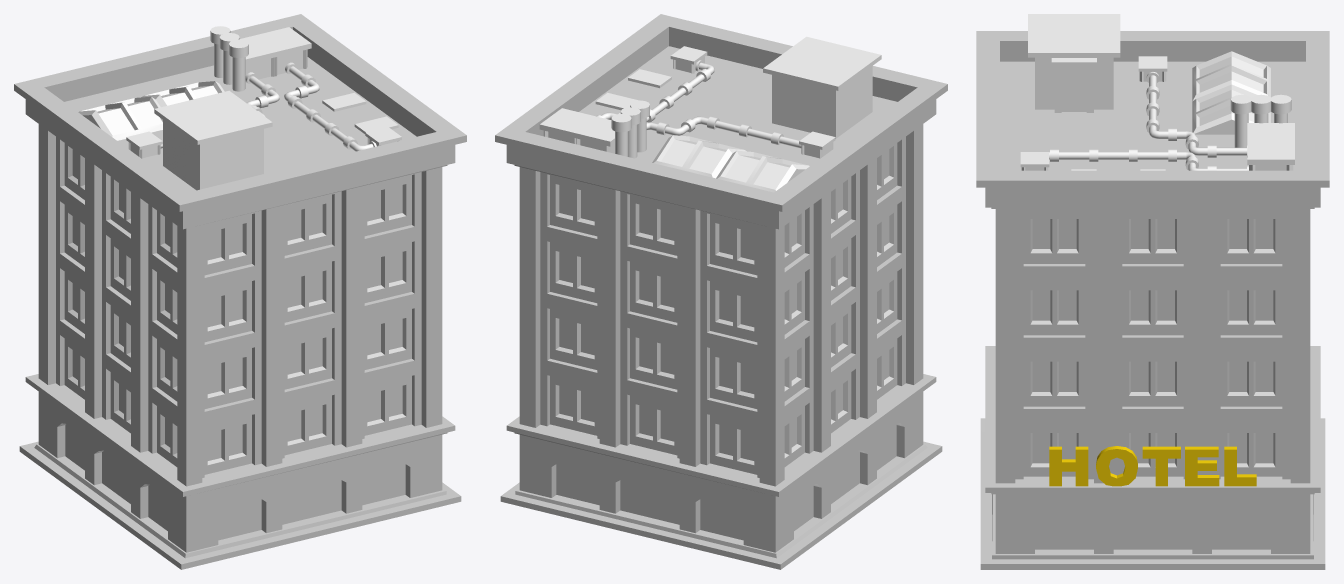
File: Building_2_1.fbx
The picture shows the model from 3 angles, left to right: view 1: azimuth 30°, elevation 25°; view 2: azimuth 150°, elevation 25°; view 3: azimuth 270°, elevation 25°; orthographic projection. The views are drawn at different scales.
Parts seen in each view (by area): view 1: Building_2_Roof__1_, Building_2_Wall_2__6_, Building_2_Wall_2__10_, Building_2_Wall_2__14_, Building_2_Wall_2__2_, Building_2_Wall_1__2_, Building_2_Wall_2__7_, Building_2_Wall_2__11_, Building_2_Base, Building_2_Wall_2__15_, Building_2_Wall_2__3_, RoofBuilding (+8 smaller); view 2: Building_2_Roof__1_, Building_2_Wall_2__5_, Building_2_Wall_2__9_, Building_2_Wall_2__13_, Building_2_Wall_2__1_, Building_2_Wall_1__4_, Building_2_Wall_2__7_, Building_2_Wall_2__11_, Building_2_Base, Building_2_Wall_2__15_, RoofBuilding, Building_2_Wall_2__3_ (+9 smaller); view 3: Building_2_Roof__1_, Building_2_Wall_2__8_, Building_2_Wall_2__4_, Building_2_Wall_2__12_, Building_2_Wall_1__1_, Building_2_Wall_2, Building_2_Base, Building_2_Separator__1_, RoofBuilding, Hotel_Add, RoofWindow, Door_1 (+8 smaller).
Boxes of the visible parts, x1,y1,x2,y2 form: Building_2_Roof__1_: [14, 14, 466, 229]; Building_2_Wall_2__6_: [186, 299, 442, 427]; Building_2_Wall_2__10_: [186, 232, 442, 360]; Building_2_Wall_2__14_: [186, 167, 442, 294]; Building_2_Wall_2__2_: [186, 366, 442, 486]; Building_2_Wall_1__2_: [186, 434, 442, 552]; Building_2_Wall_2__7_: [38, 253, 186, 427]; Building_2_Wall_2__11_: [38, 186, 186, 360]; Building_2_Base: [19, 441, 461, 569]; Building_2_Wall_2__15_: [38, 124, 186, 293]; Building_2_Wall_2__3_: [38, 320, 186, 485]; RoofBuilding: [154, 90, 272, 190]; Building_2_Roof__1_: [495, 14, 947, 229]; Building_2_Wall_2__5_: [519, 299, 775, 427]; Building_2_Wall_2__9_: [519, 232, 775, 360]; Building_2_Wall_2__13_: [519, 167, 775, 294]; Building_2_Wall_2__1_: [519, 366, 775, 486]; Building_2_Wall_1__4_: [519, 434, 775, 552]; Building_2_Wall_2__7_: [775, 253, 923, 427]; Building_2_Wall_2__11_: [775, 186, 923, 360]; Building_2_Base: [500, 441, 942, 569]; Building_2_Wall_2__15_: [775, 124, 923, 293]; RoofBuilding: [763, 36, 881, 138]; Building_2_Wall_2__3_: [775, 320, 923, 485]; Building_2_Roof__1_: [976, 31, 1329, 208]; Building_2_Wall_2__8_: [995, 274, 1310, 349]; Building_2_Wall_2__4_: [995, 345, 1310, 420]; Building_2_Wall_2__12_: [995, 209, 1310, 278]; Building_2_Wall_1__1_: [995, 494, 1310, 553]; Building_2_Wall_2: [995, 417, 1310, 483]; Building_2_Base: [980, 418, 1325, 569]; Building_2_Separator__1_: [985, 346, 1320, 494]; RoofBuilding: [1028, 14, 1120, 109]; Hotel_Add: [1049, 446, 1256, 486]; RoofWindow: [1192, 51, 1270, 100]; Door_1: [1051, 58, 1096, 112].
Bounding box in the file's own units: 449 × 603 × 449.
